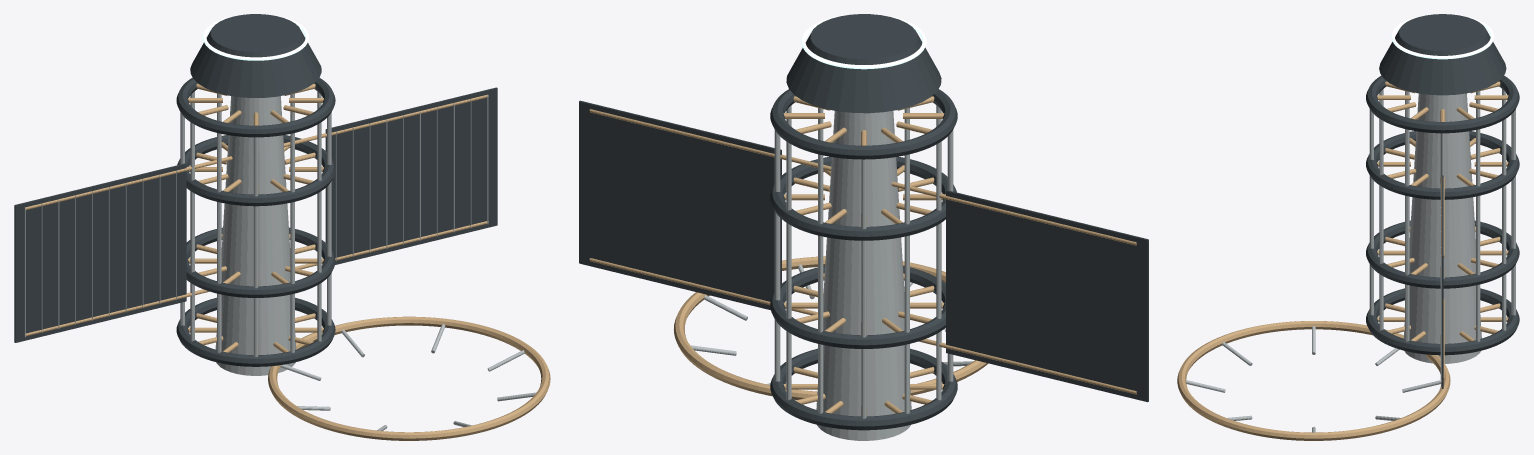
Rendered from A-exterior-west.glb.
3 views of the same model, side by side, from view 1: azimuth 30°, elevation 25°; view 2: azimuth 150°, elevation 25°; view 3: azimuth 270°, elevation 25° (orthographic). The views are drawn at different scales.
Parts seen in each view (by area): view 1: A-exterior-west-basalt, A-exterior-west-metal, A-exterior-west-bronze, A-exterior-west-cool-luminous; view 2: A-exterior-west-basalt, A-exterior-west-metal, A-exterior-west-bronze, A-exterior-west-cool-luminous; view 3: A-exterior-west-metal, A-exterior-west-basalt, A-exterior-west-bronze, A-exterior-west-cool-luminous.
Part boxes in pixels (<box>): A-exterior-west-basalt: <box>14,14,497,366</box>; A-exterior-west-metal: <box>24,91,536,430</box>; A-exterior-west-bronze: <box>25,83,550,440</box>; A-exterior-west-cool-luminous: <box>203,14,308,60</box>; A-exterior-west-basalt: <box>579,14,1148,430</box>; A-exterior-west-metal: <box>690,105,972,440</box>; A-exterior-west-bronze: <box>589,96,1136,415</box>; A-exterior-west-cool-luminous: <box>801,14,926,69</box>; A-exterior-west-metal: <box>1186,89,1515,432</box>; A-exterior-west-basalt: <box>1366,14,1519,388</box>; A-exterior-west-bronze: <box>1177,81,1508,440</box>; A-exterior-west-cool-luminous: <box>1391,14,1494,59</box>.
Size of the model in its own units: 33.44 by 21.88 by 21.25.
